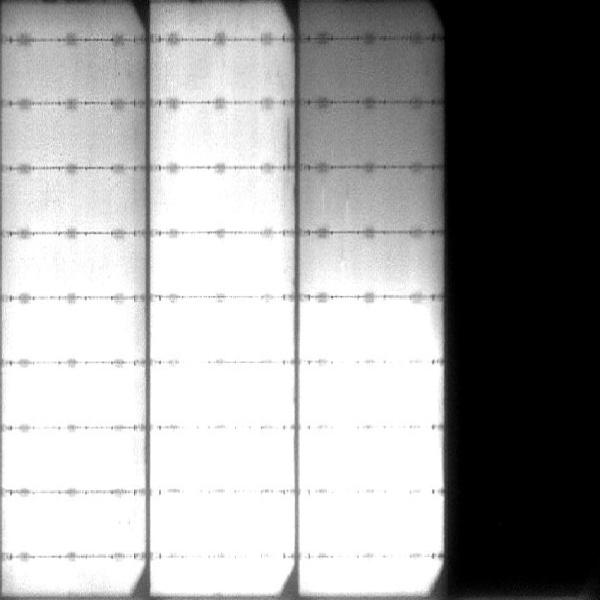hot_spot: (159, 433, 292, 488), (302, 304, 434, 358), (5, 434, 142, 485), (304, 366, 431, 421), (304, 497, 433, 550), (159, 305, 290, 355), (7, 372, 138, 422), (7, 500, 140, 549), (157, 501, 292, 549), (156, 241, 287, 290), (159, 370, 291, 418), (302, 435, 434, 482), (9, 306, 130, 352), (162, 185, 274, 227), (305, 561, 429, 587), (16, 563, 132, 587), (156, 564, 280, 586)
no_electricity: (441, 1, 599, 593)
